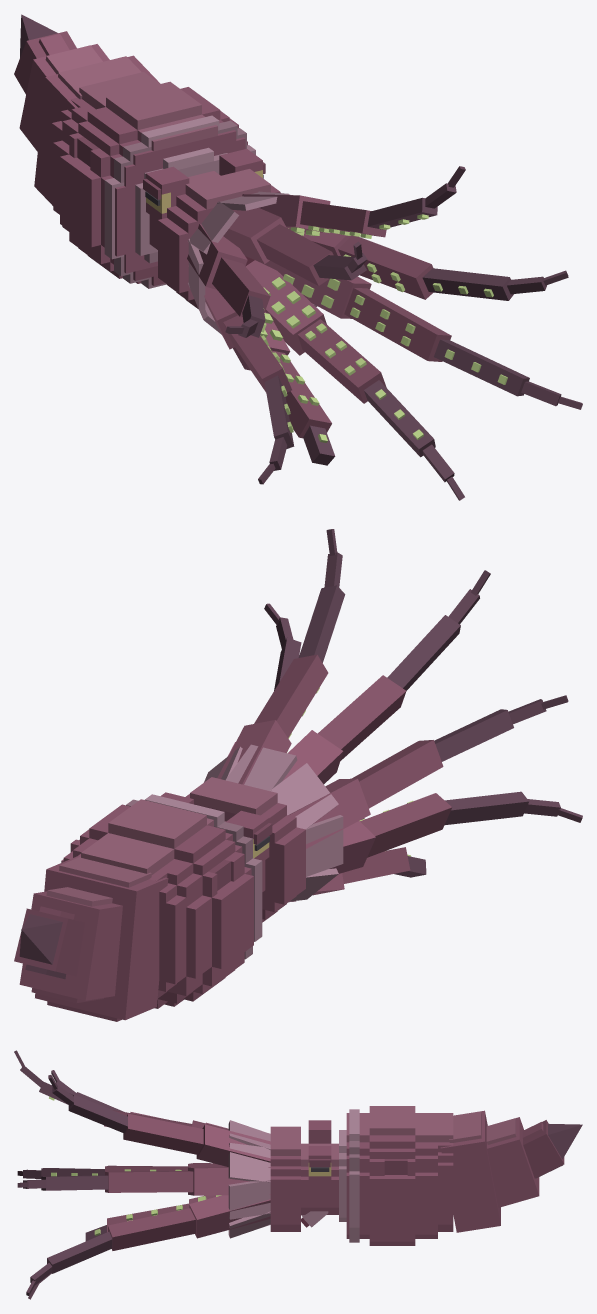
File: Kraken.glb
The picture shows the model from 3 angles, top to bottom: view 1: azimuth 30°, elevation 25°; view 2: azimuth 150°, elevation 25°; view 3: azimuth 270°, elevation 25°; orthographic projection. The views are drawn at different scales.
Parts seen in each view (by area): view 1: Mantle, Head, A8b, A7b, A8c, A1c, A1b, A7c, A3b, A7a, A2c, A4b (+13 smaller); view 2: Mantle, Head, A3b, A5b, A4b, A2b, A3c, A5c, A2c, A4c, A4a, A3a (+4 smaller); view 3: Mantle, Head, A8b, A2b, A1b, A8a, A8c, A2a, A2c, A1c, A1a, A5c (+4 smaller).
Part boxes in pixels (box(x1,y1,x2,y2)): Mantle: box(14, 14, 255, 288); Head: box(143, 149, 317, 334); A8b: box(344, 288, 451, 361); A7b: box(297, 319, 386, 403); A8c: box(434, 339, 582, 409); A1c: box(422, 268, 568, 300); A1b: box(338, 235, 433, 299); A7c: box(364, 380, 464, 500); A3b: box(257, 224, 333, 285); A7a: box(245, 260, 326, 355); A2c: box(367, 166, 465, 229); A4b: box(212, 257, 270, 317); Mantle: box(14, 794, 262, 1021); Head: box(160, 744, 343, 922); A3b: box(318, 675, 406, 760); A5b: box(360, 793, 451, 857); A4b: box(352, 740, 443, 808); A2b: box(254, 654, 328, 737); A3c: box(387, 570, 490, 690); A5c: box(445, 791, 582, 824); A2c: box(298, 529, 345, 662); A4c: box(434, 695, 568, 761); A4a: box(288, 778, 370, 848); A3a: box(282, 730, 343, 784); Mantle: box(339, 1106, 582, 1245); Head: box(228, 1120, 338, 1238); A8b: box(108, 1208, 195, 1250); A2b: box(123, 1113, 203, 1154); A1b: box(105, 1171, 193, 1192); A8a: box(189, 1195, 270, 1238); A8c: box(26, 1231, 112, 1295); A2a: box(196, 1124, 270, 1166); A2c: box(48, 1075, 127, 1133); A1c: box(17, 1175, 108, 1190); A1a: box(188, 1167, 270, 1195); A5c: box(17, 1168, 104, 1178).
Bounding box in the file's own units: 23.65 × 21.32 × 47.8.
